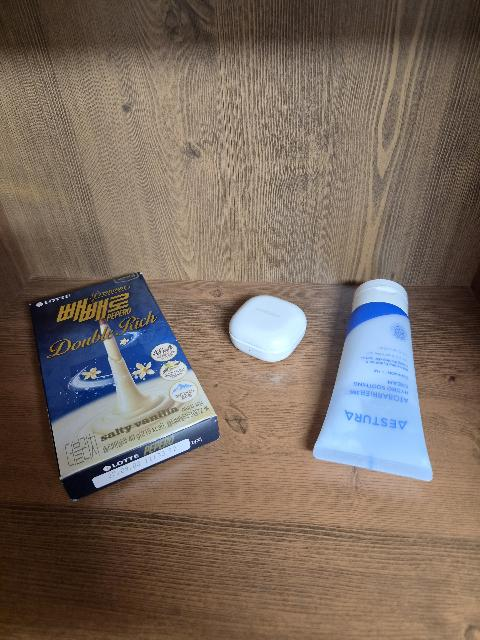earphone_case: (228, 295, 307, 362)
handcream: (312, 279, 433, 482)
pepero: (29, 272, 220, 501)
